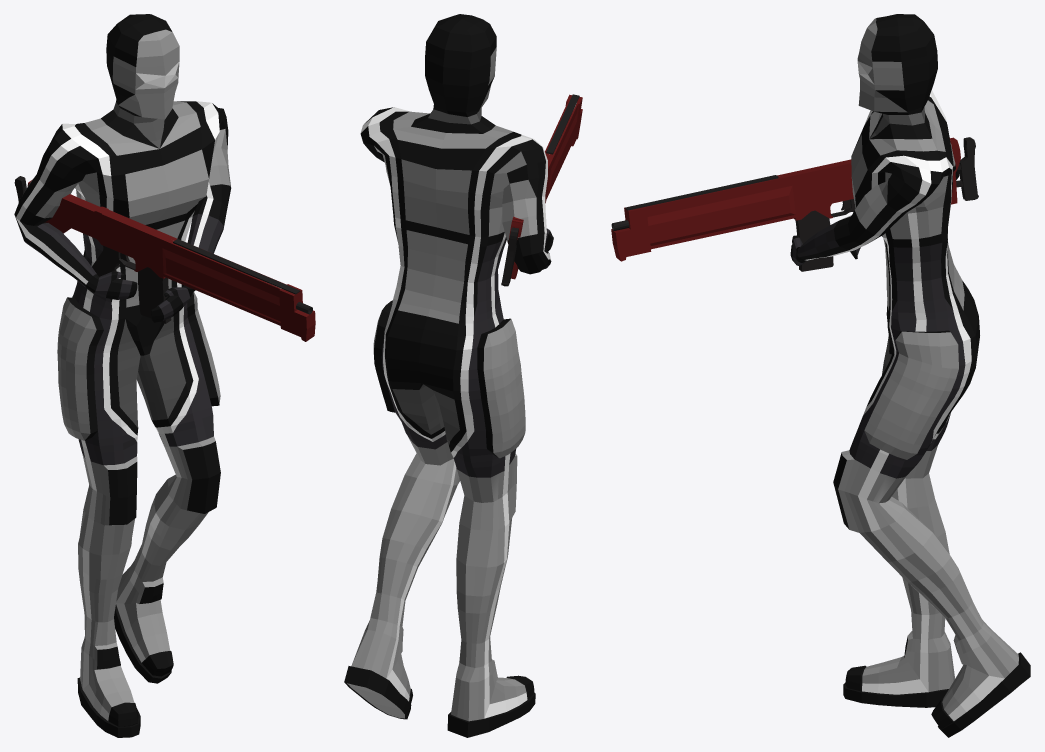
File: TKR5.obj
3 views of the same model, side by side, from view 1: azimuth 30°, elevation 25°; view 2: azimuth 150°, elevation 25°; view 3: azimuth 270°, elevation 25° (orthographic).
Parts seen in each view (by area): view 1: metarig_object_metarig_mesh, Cube.001; view 2: metarig_object_metarig_mesh, Cube.001; view 3: metarig_object_metarig_mesh, Cube.001.
Part boxes in pixels (bbox=[...]): metarig_object_metarig_mesh: bbox=[14, 14, 231, 737]; Cube.001: bbox=[14, 176, 315, 341]; metarig_object_metarig_mesh: bbox=[344, 14, 553, 737]; Cube.001: bbox=[501, 94, 582, 286]; metarig_object_metarig_mesh: bbox=[790, 14, 1030, 737]; Cube.001: bbox=[611, 137, 978, 271].
Bounding box in the file's own units: 0.5078 × 1.74 × 0.947.
2 materials, 2 textured.
